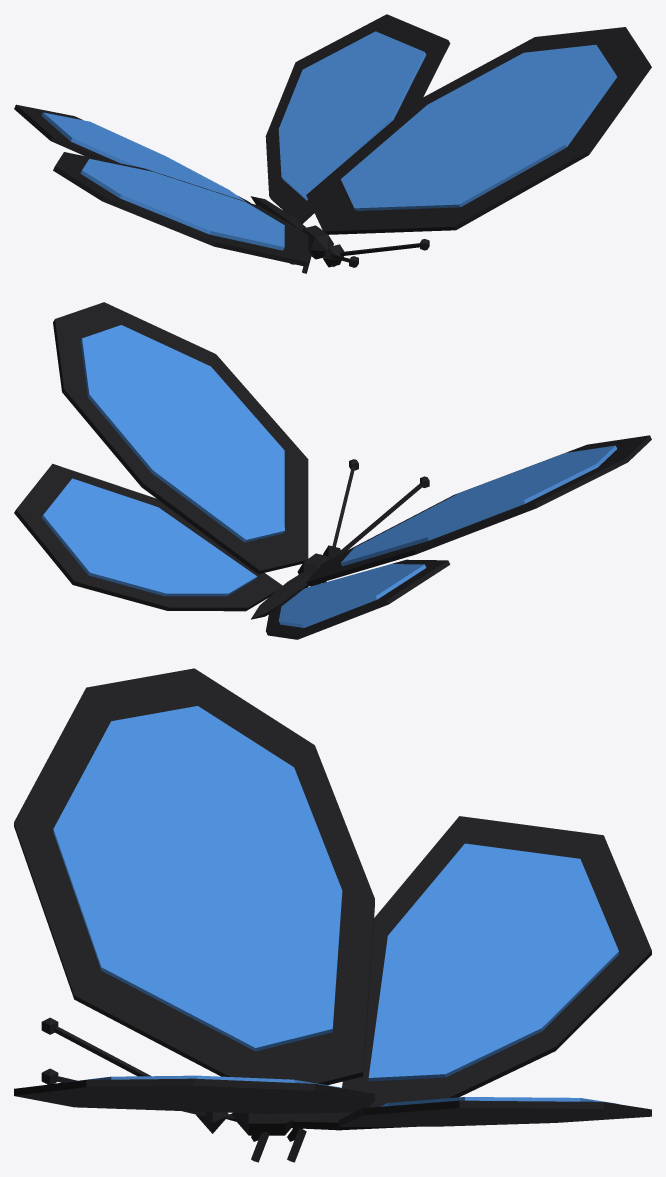
File: GN_Butterfly_Blue_01.glb
The picture shows the model from 3 angles, top to bottom: view 1: azimuth 30°, elevation 25°; view 2: azimuth 150°, elevation 25°; view 3: azimuth 270°, elevation 25°; orthographic projection. The views are drawn at different scales.
Parts seen in each view (by area): view 1: GN_Butterfly_Blue_01; view 2: GN_Butterfly_Blue_01; view 3: GN_Butterfly_Blue_01.
Part boxes in pixels (x1,y1,x2,y2): GN_Butterfly_Blue_01: [14, 14, 651, 273]; GN_Butterfly_Blue_01: [14, 302, 651, 639]; GN_Butterfly_Blue_01: [14, 668, 651, 1162].
Bounding box in the file's own units: 0.0812 × 0.0255 × 0.053.
Materials: 1 (1 with a texture image).
